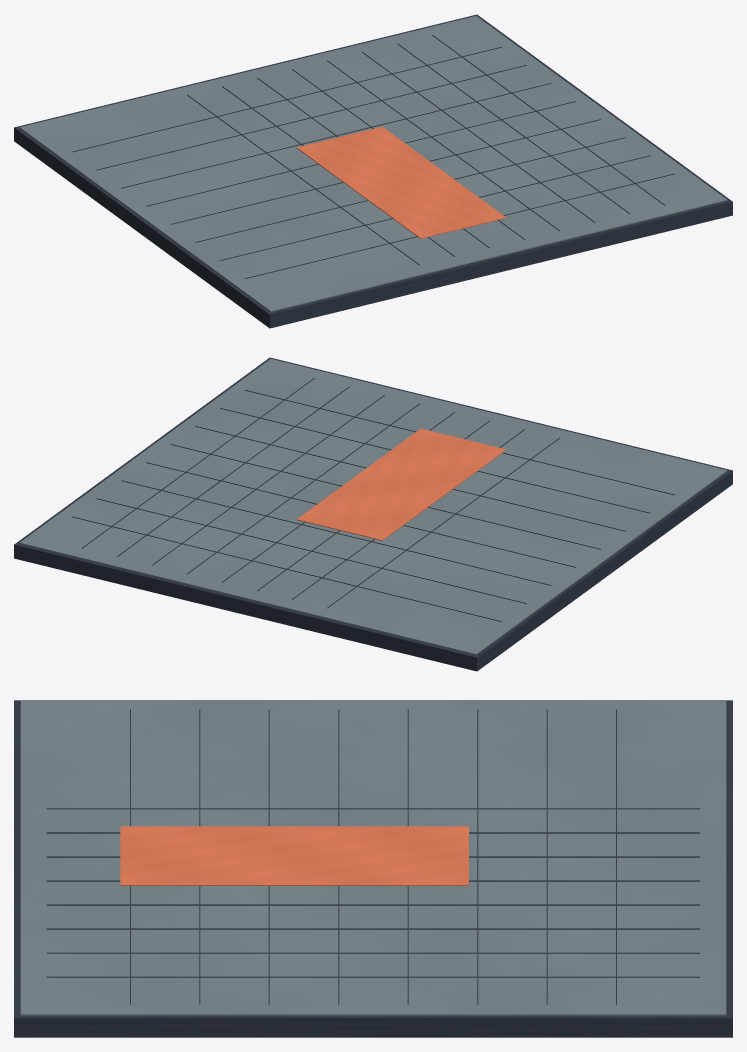
Rendered from atlas100-s021-a07.lod1.glb.
The picture shows the model from 3 angles, top to bottom: view 1: azimuth 30°, elevation 25°; view 2: azimuth 150°, elevation 25°; view 3: azimuth 270°, elevation 25°; orthographic projection. The views are drawn at different scales.
Parts seen in each view (by area): view 1: atlas100-s021-a07:part-001, atlas100-s021-a07:part-000, atlas100-s021-a07:part-021, atlas100-s021-a07:part-013, atlas100-s021-a07:part-014, atlas100-s021-a07:part-015, atlas100-s021-a07:part-020, atlas100-s021-a07:part-019, atlas100-s021-a07:part-018, atlas100-s021-a07:part-016, atlas100-s021-a07:part-017; view 2: atlas100-s021-a07:part-001, atlas100-s021-a07:part-000, atlas100-s021-a07:part-021, atlas100-s021-a07:part-013, atlas100-s021-a07:part-015, atlas100-s021-a07:part-014, atlas100-s021-a07:part-020, atlas100-s021-a07:part-016, atlas100-s021-a07:part-017, atlas100-s021-a07:part-018, atlas100-s021-a07:part-019; view 3: atlas100-s021-a07:part-001, atlas100-s021-a07:part-000, atlas100-s021-a07:part-021, atlas100-s021-a07:part-010, atlas100-s021-a07:part-009, atlas100-s021-a07:part-012, atlas100-s021-a07:part-005, atlas100-s021-a07:part-011, atlas100-s021-a07:part-006, atlas100-s021-a07:part-007, atlas100-s021-a07:part-008, atlas100-s021-a07:part-014 (+1 smaller).
Boxes of the visible parts, box(x1,y1,x2,y2) form: atlas100-s021-a07:part-001: box(19, 16, 727, 311); atlas100-s021-a07:part-000: box(14, 14, 732, 328); atlas100-s021-a07:part-021: box(297, 126, 506, 238); atlas100-s021-a07:part-013: box(72, 47, 502, 152); atlas100-s021-a07:part-014: box(96, 65, 526, 170); atlas100-s021-a07:part-015: box(121, 83, 551, 188); atlas100-s021-a07:part-020: box(244, 173, 674, 278); atlas100-s021-a07:part-019: box(220, 155, 650, 260); atlas100-s021-a07:part-018: box(195, 137, 625, 242); atlas100-s021-a07:part-016: box(146, 101, 576, 206); atlas100-s021-a07:part-017: box(170, 119, 600, 224); atlas100-s021-a07:part-001: box(19, 359, 727, 654); atlas100-s021-a07:part-000: box(14, 357, 732, 671); atlas100-s021-a07:part-021: box(296, 428, 506, 540); atlas100-s021-a07:part-013: box(72, 516, 502, 621); atlas100-s021-a07:part-015: box(121, 480, 551, 585); atlas100-s021-a07:part-014: box(96, 498, 526, 603); atlas100-s021-a07:part-020: box(244, 390, 674, 495); atlas100-s021-a07:part-016: box(146, 462, 576, 567); atlas100-s021-a07:part-017: box(170, 444, 600, 549); atlas100-s021-a07:part-018: box(195, 426, 625, 531); atlas100-s021-a07:part-019: box(220, 408, 650, 513); atlas100-s021-a07:part-001: box(20, 701, 726, 1015); atlas100-s021-a07:part-000: box(14, 700, 732, 1037); atlas100-s021-a07:part-021: box(120, 826, 468, 885); atlas100-s021-a07:part-010: box(46, 928, 700, 929); atlas100-s021-a07:part-009: box(46, 904, 700, 905); atlas100-s021-a07:part-012: box(46, 976, 700, 977); atlas100-s021-a07:part-005: box(46, 808, 700, 809); atlas100-s021-a07:part-011: box(46, 952, 700, 953); atlas100-s021-a07:part-006: box(46, 832, 700, 833); atlas100-s021-a07:part-007: box(46, 856, 700, 857); atlas100-s021-a07:part-008: box(46, 880, 700, 881); atlas100-s021-a07:part-014: box(546, 709, 547, 1004).
Size of the model in its own units: 11.9 by 0.404 by 11.39.
3 materials, 3 textured.
